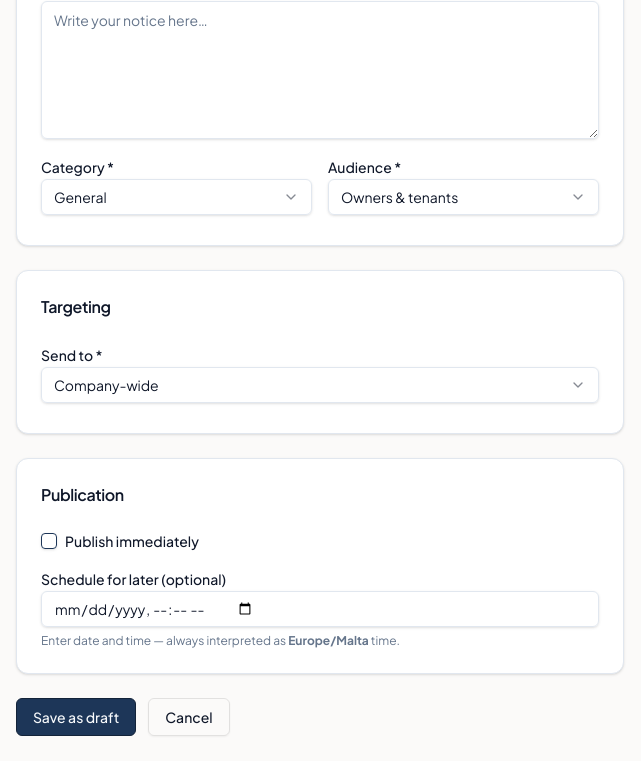
Test: Suite 38-02: Create-notice required-field validation › shows error when submitting without title
(page scrolled)
Step 1. Click the button "Save as draft" → (76, 717), box [16,698,136,736]
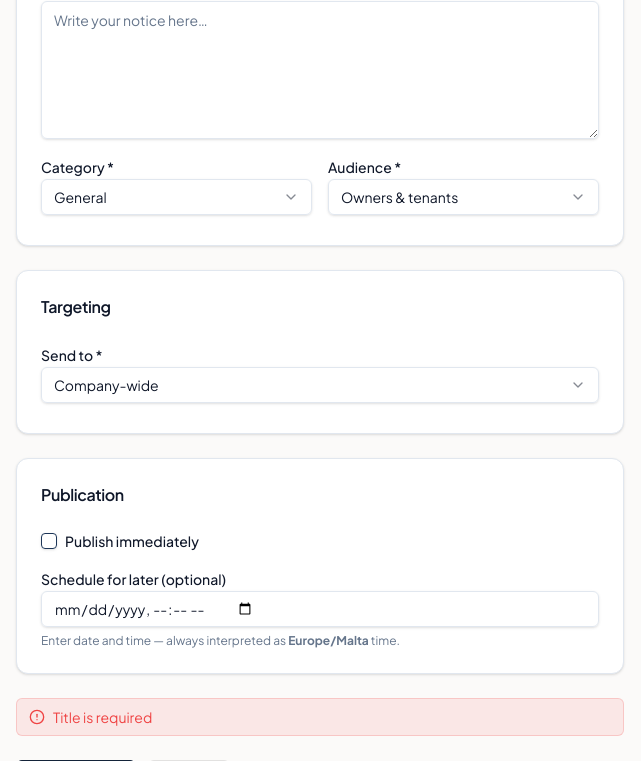
Now the text "Title is required" is shown, box [16,698,624,736]
